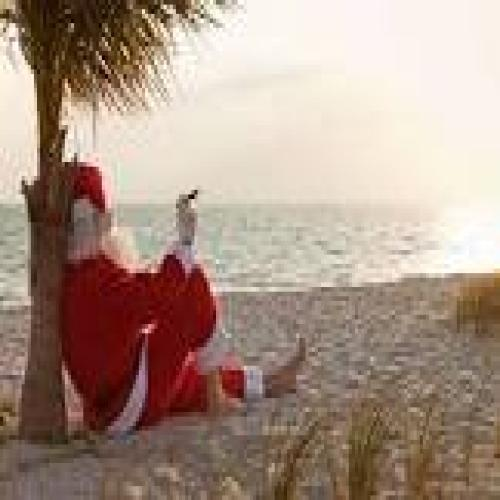Santa: (46, 154, 317, 449)
